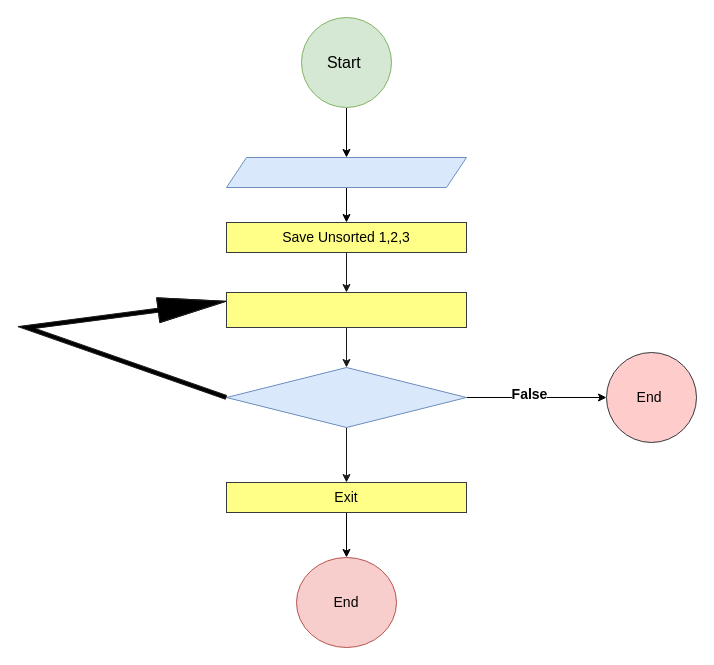
The diagram is 714 pixels wide and 665 high, and some of its shapes have lost their labels. The shapes that lost their labels are listed below. From the top down, each one's centre as x and y in pixels, then its label:
point 346,172: init1,2,3
point 346,310: Loop
point 346,397: If unsorted is > 1
